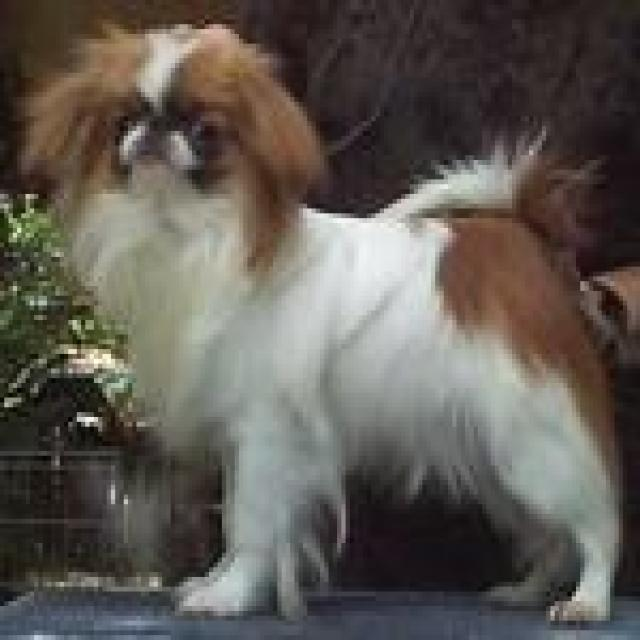husky: (4, 5, 636, 635)
